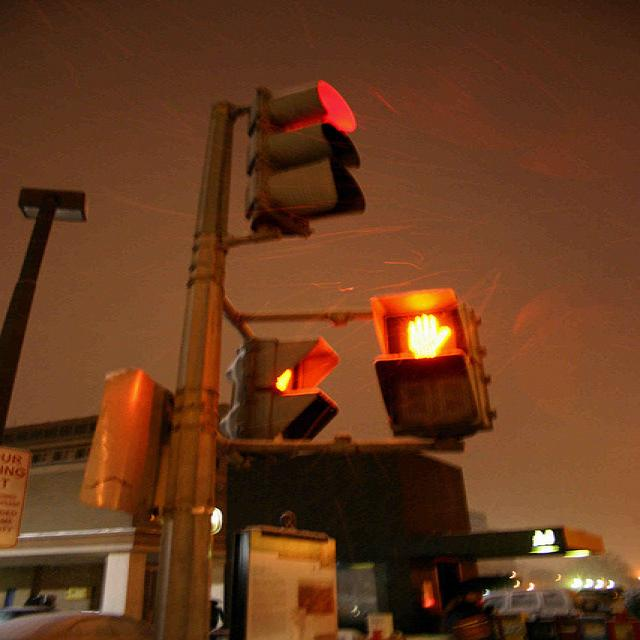Vehicle: (1, 605, 159, 639), (476, 589, 578, 624)
